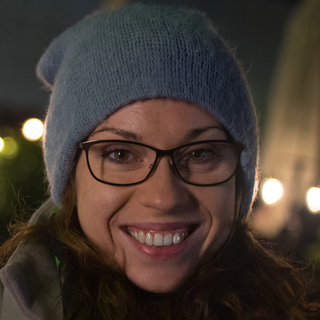eye: (99, 144, 145, 167), (179, 144, 222, 166)
